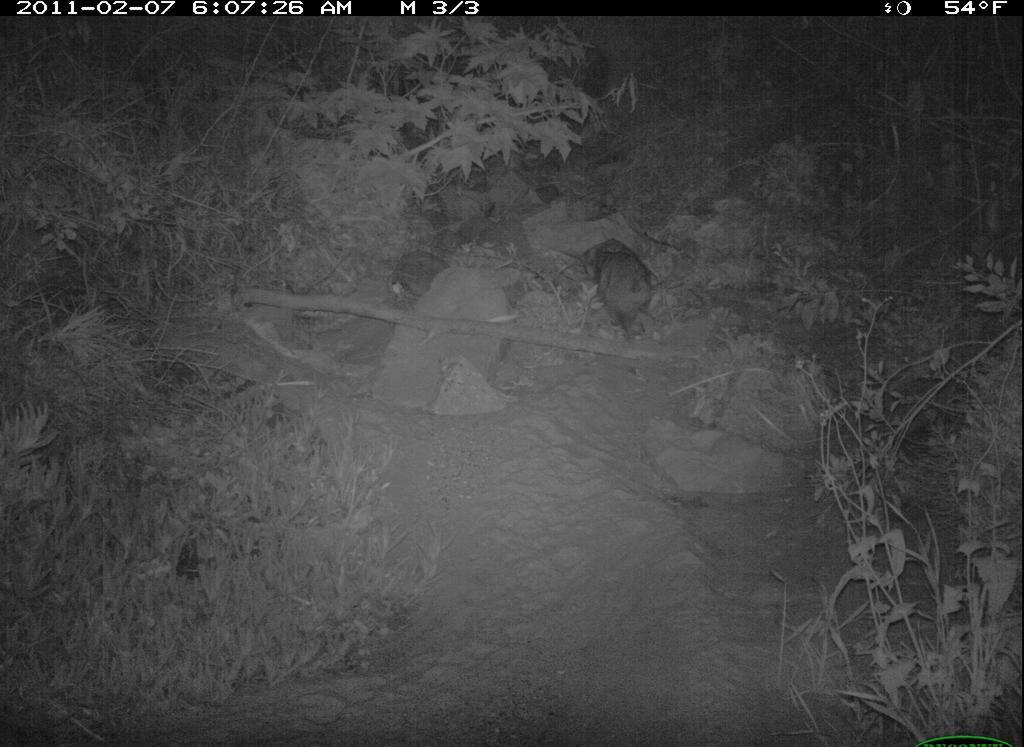raccoon: (577, 226, 671, 344)
